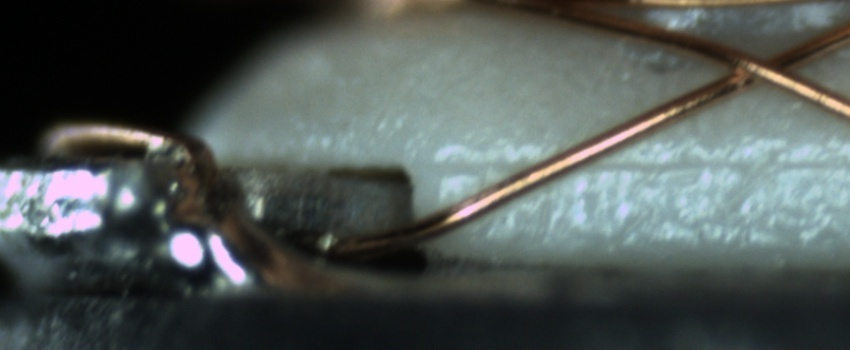CL: (703, 41, 823, 96)
DL: (443, 130, 849, 194)
TE: (34, 116, 208, 160)
